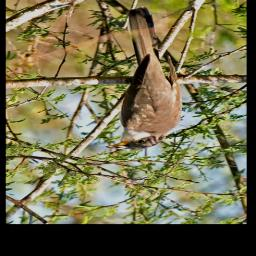Cuckoo: (106, 8, 183, 150)
